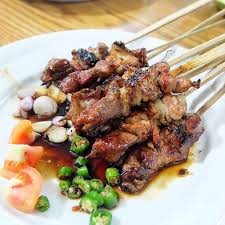sate: (33, 37, 225, 200)
